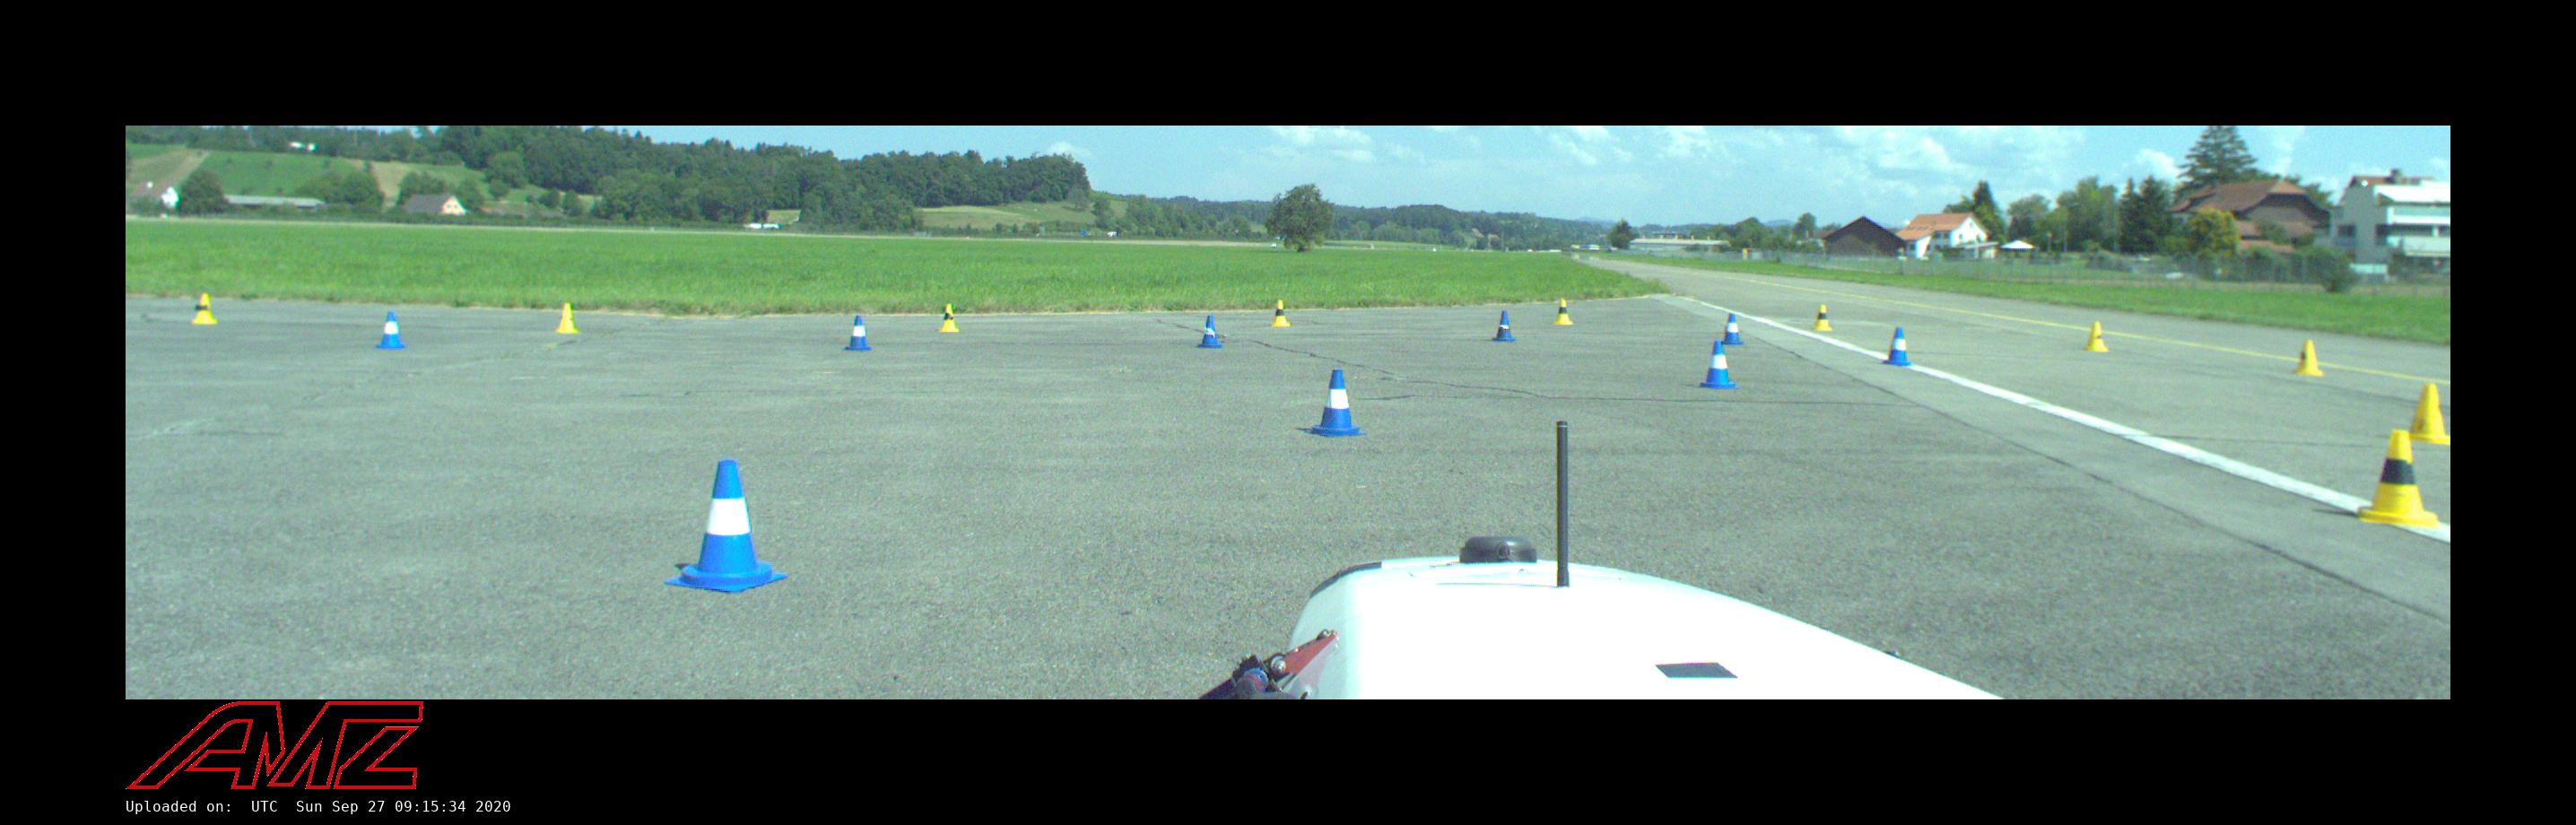blue_cone: (664, 460, 787, 593), (1306, 370, 1365, 437), (1697, 342, 1738, 388), (1883, 329, 1912, 366), (375, 312, 404, 348), (844, 316, 871, 350), (1196, 316, 1222, 348), (1492, 311, 1516, 342), (1722, 314, 1743, 345)
yellow_cone: (2357, 431, 2438, 528), (2408, 385, 2451, 445), (2293, 340, 2323, 375), (2083, 322, 2109, 352), (554, 302, 580, 332), (192, 294, 217, 322), (938, 304, 959, 332), (1553, 299, 1574, 325), (1810, 306, 1832, 330), (1272, 301, 1291, 327)
